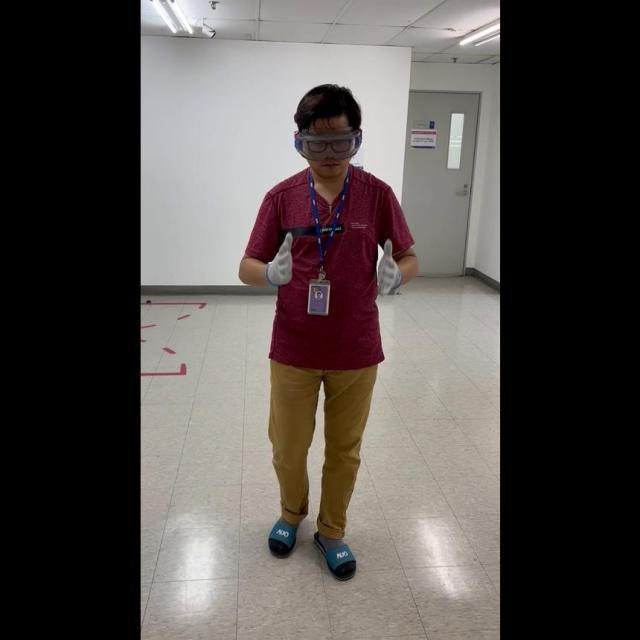gloved_hand: (262, 227, 298, 291), (372, 235, 403, 300)
